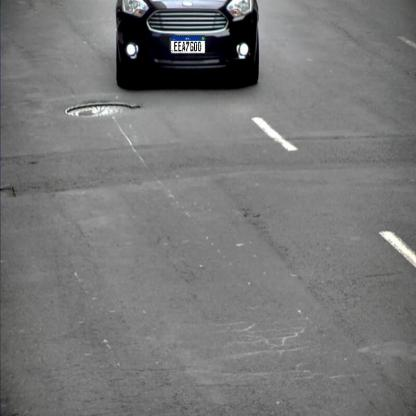PlacaM: (170, 35, 206, 54)
